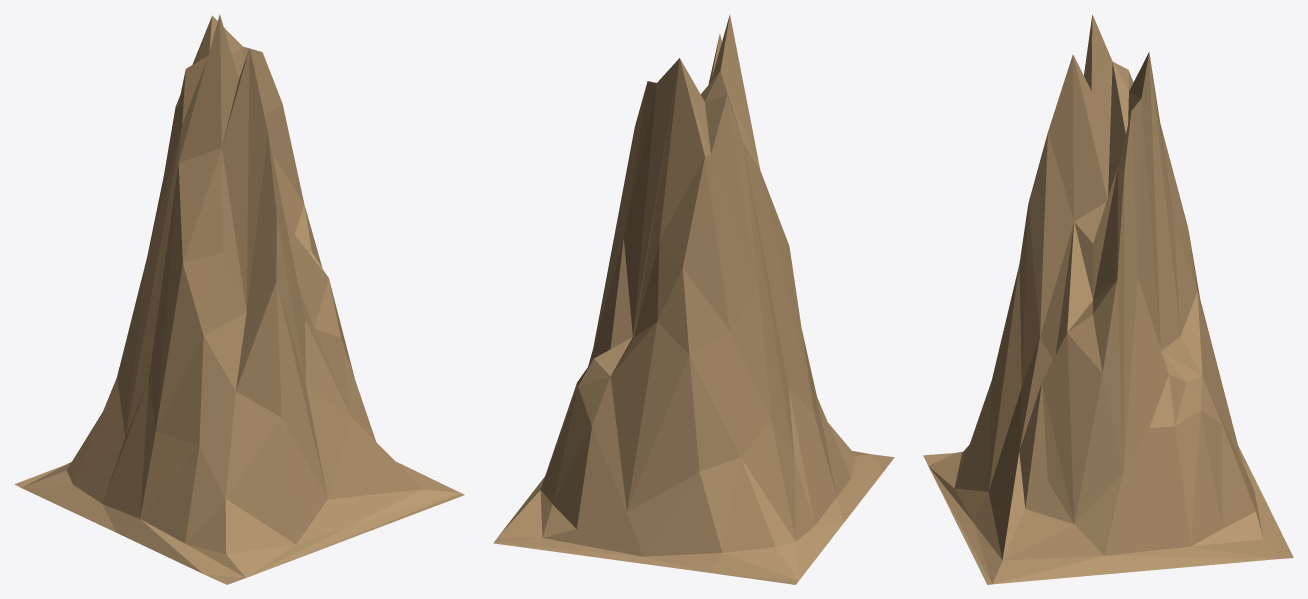
File: mountain-big.gltf
The picture shows the model from 3 angles, left to right: view 1: azimuth 30°, elevation 25°; view 2: azimuth 150°, elevation 25°; view 3: azimuth 270°, elevation 25°; orthographic projection.
Visible parts, largest first — view 1: clloud.017; view 2: clloud.017; view 3: clloud.017.
Part boxes in pixels (x1,y1,x2,y2): clloud.017: (14, 14, 464, 584); clloud.017: (493, 14, 894, 584); clloud.017: (923, 14, 1293, 584).
Bounding box in the file's own units: 3.74 × 5.34 × 3.74.
